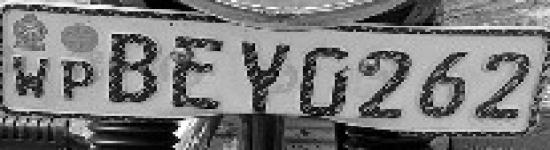0: (302, 42, 354, 118)
2: (355, 47, 413, 124), (474, 48, 531, 125)
6: (419, 48, 469, 124)
B: (106, 30, 165, 105)
E: (168, 32, 225, 111)
P: (60, 54, 98, 102)
W: (9, 52, 55, 100)
Y: (234, 38, 300, 115)
